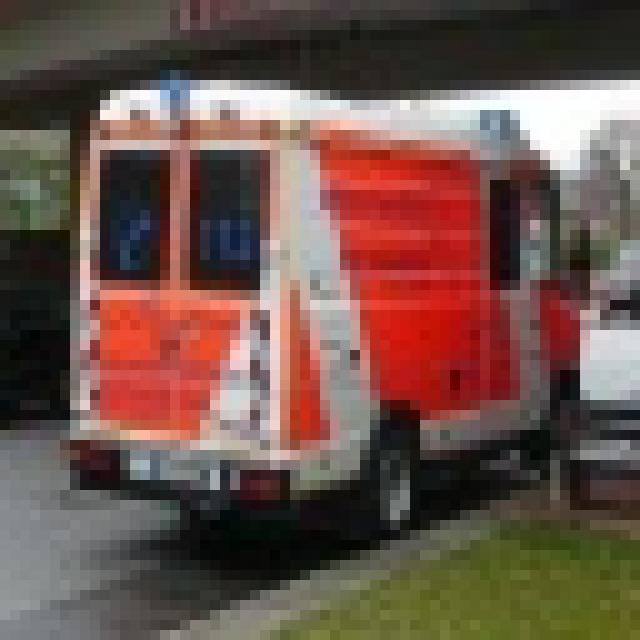Ambulance: (60, 70, 580, 540)
